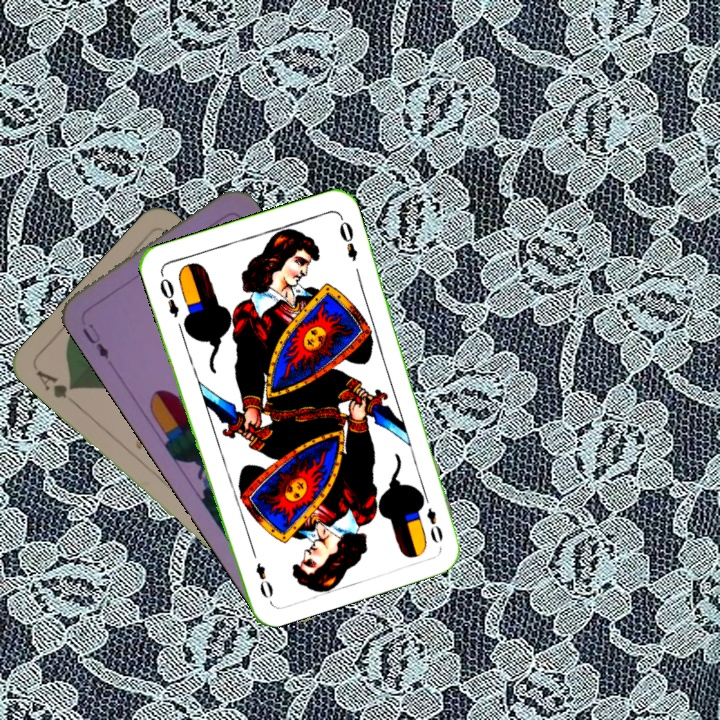EO: (417, 490, 446, 547), (155, 269, 182, 320)
EU: (78, 320, 112, 362)
GA: (32, 366, 81, 409)
